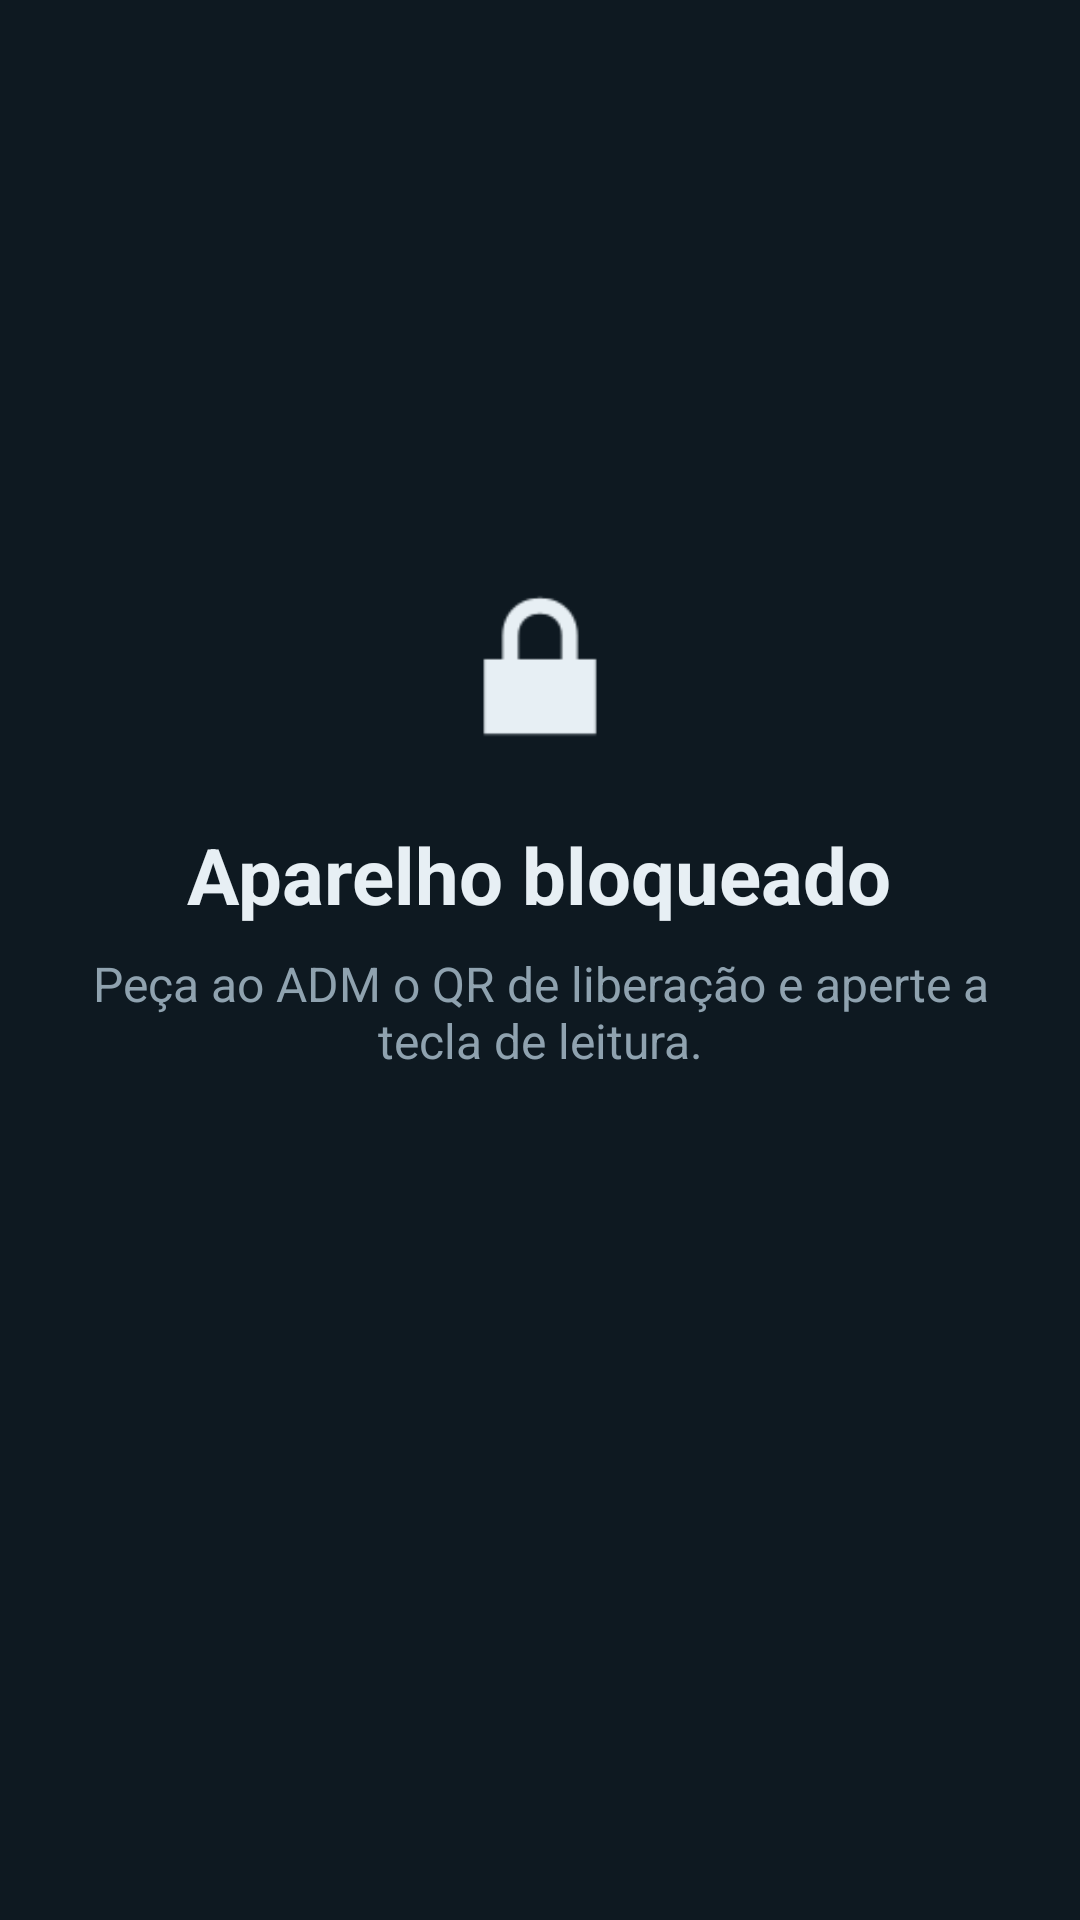

Icon click points for this 1080px x 1920px phone screenshot, format (x,y):
lock: (540,666)
